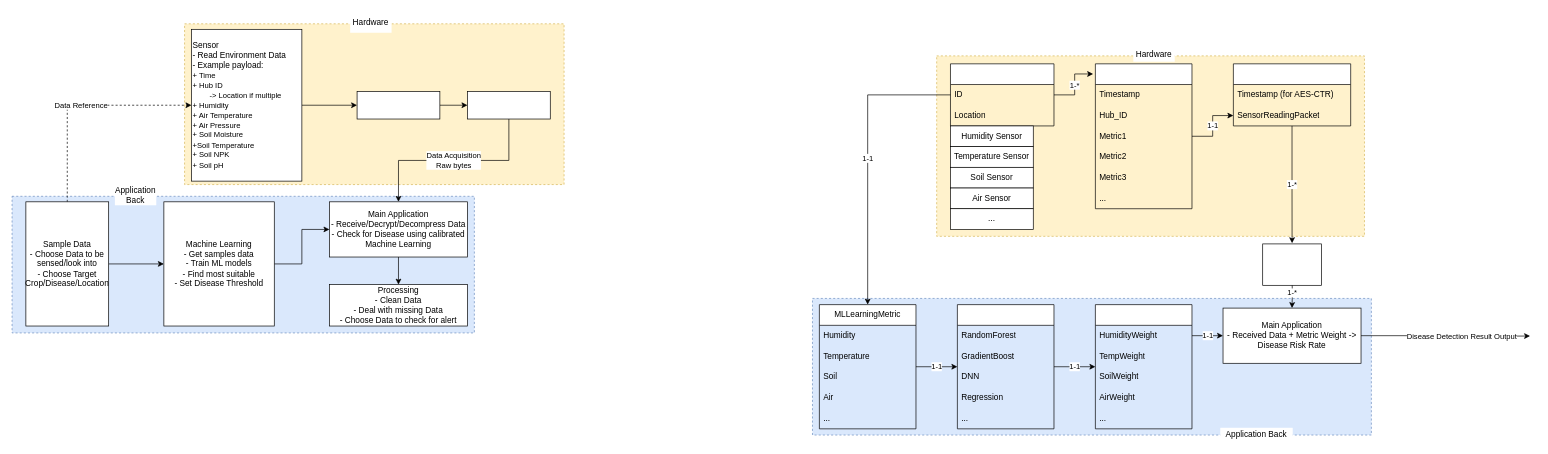
The diagram is 1548 pixels wide and 454 high, and some of its shapes have lost their labels. Each missing label, with the box of its shape:
Central Data Receiver: (1262, 243, 1321, 285)
Central Receiver System: (467, 91, 550, 119)
DiseaseMetricWeight: (1095, 304, 1192, 429)
MLModel: (957, 304, 1054, 429)
Radio: (356, 91, 440, 119)
RadioPacket: (1233, 63, 1351, 126)
SensorHub: (950, 63, 1054, 126)
SensorReading: (1095, 63, 1192, 209)
